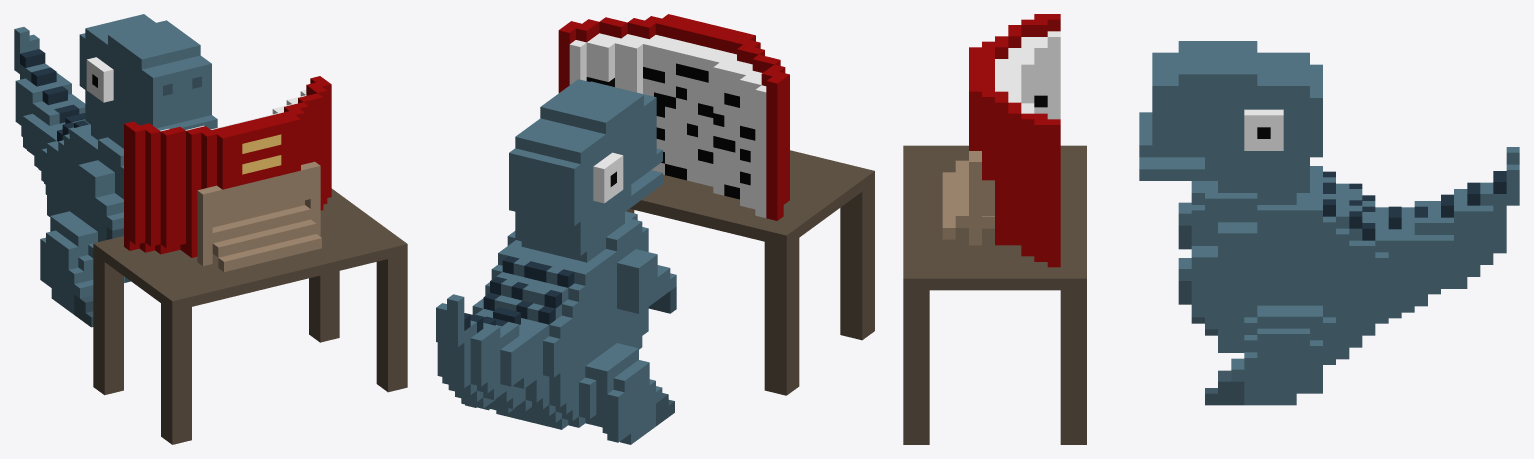
Rendered from dinoProfile.glb.
3 renders of one model, left to right at view 1: azimuth 30°, elevation 25°; view 2: azimuth 150°, elevation 25°; view 3: azimuth 270°, elevation 25°, orthographic. The views are drawn at different scales.
Parts seen in each view (by area): view 1: dinoProfile-0.001, dinoProfile-1.001; view 2: dinoProfile-1.001, dinoProfile-0.001; view 3: dinoProfile-1.001, dinoProfile-0.001.
Part boxes in pixels (x1=…): dinoProfile-0.001: x1=93, y1=76, x2=407, y2=444; dinoProfile-1.001: x1=14, y1=14, x2=217, y2=327; dinoProfile-1.001: x1=436, y1=79, x2=676, y2=444; dinoProfile-0.001: x1=558, y1=14, x2=874, y2=395; dinoProfile-1.001: x1=1139, y1=41, x2=1519, y2=405; dinoProfile-0.001: x1=903, y1=14, x2=1086, y2=444.
Bounding box in the file's own units: 2.4 × 2.7 × 4.7.
2 materials, 2 textured.
